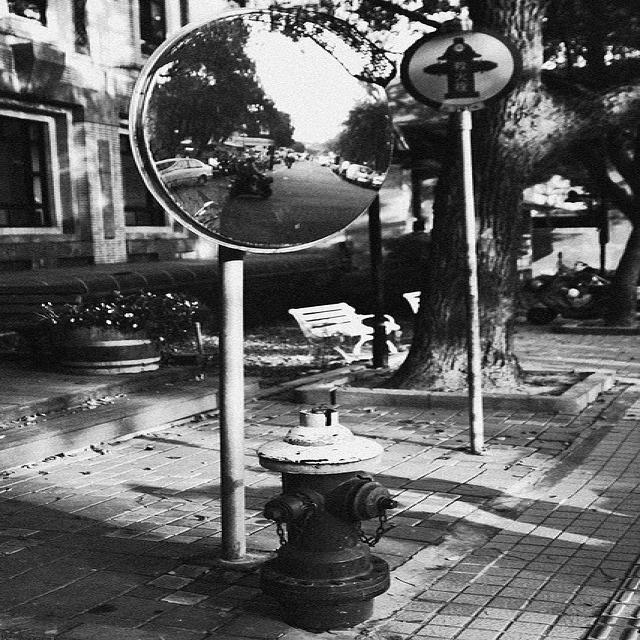motor: (522, 250, 613, 325)
